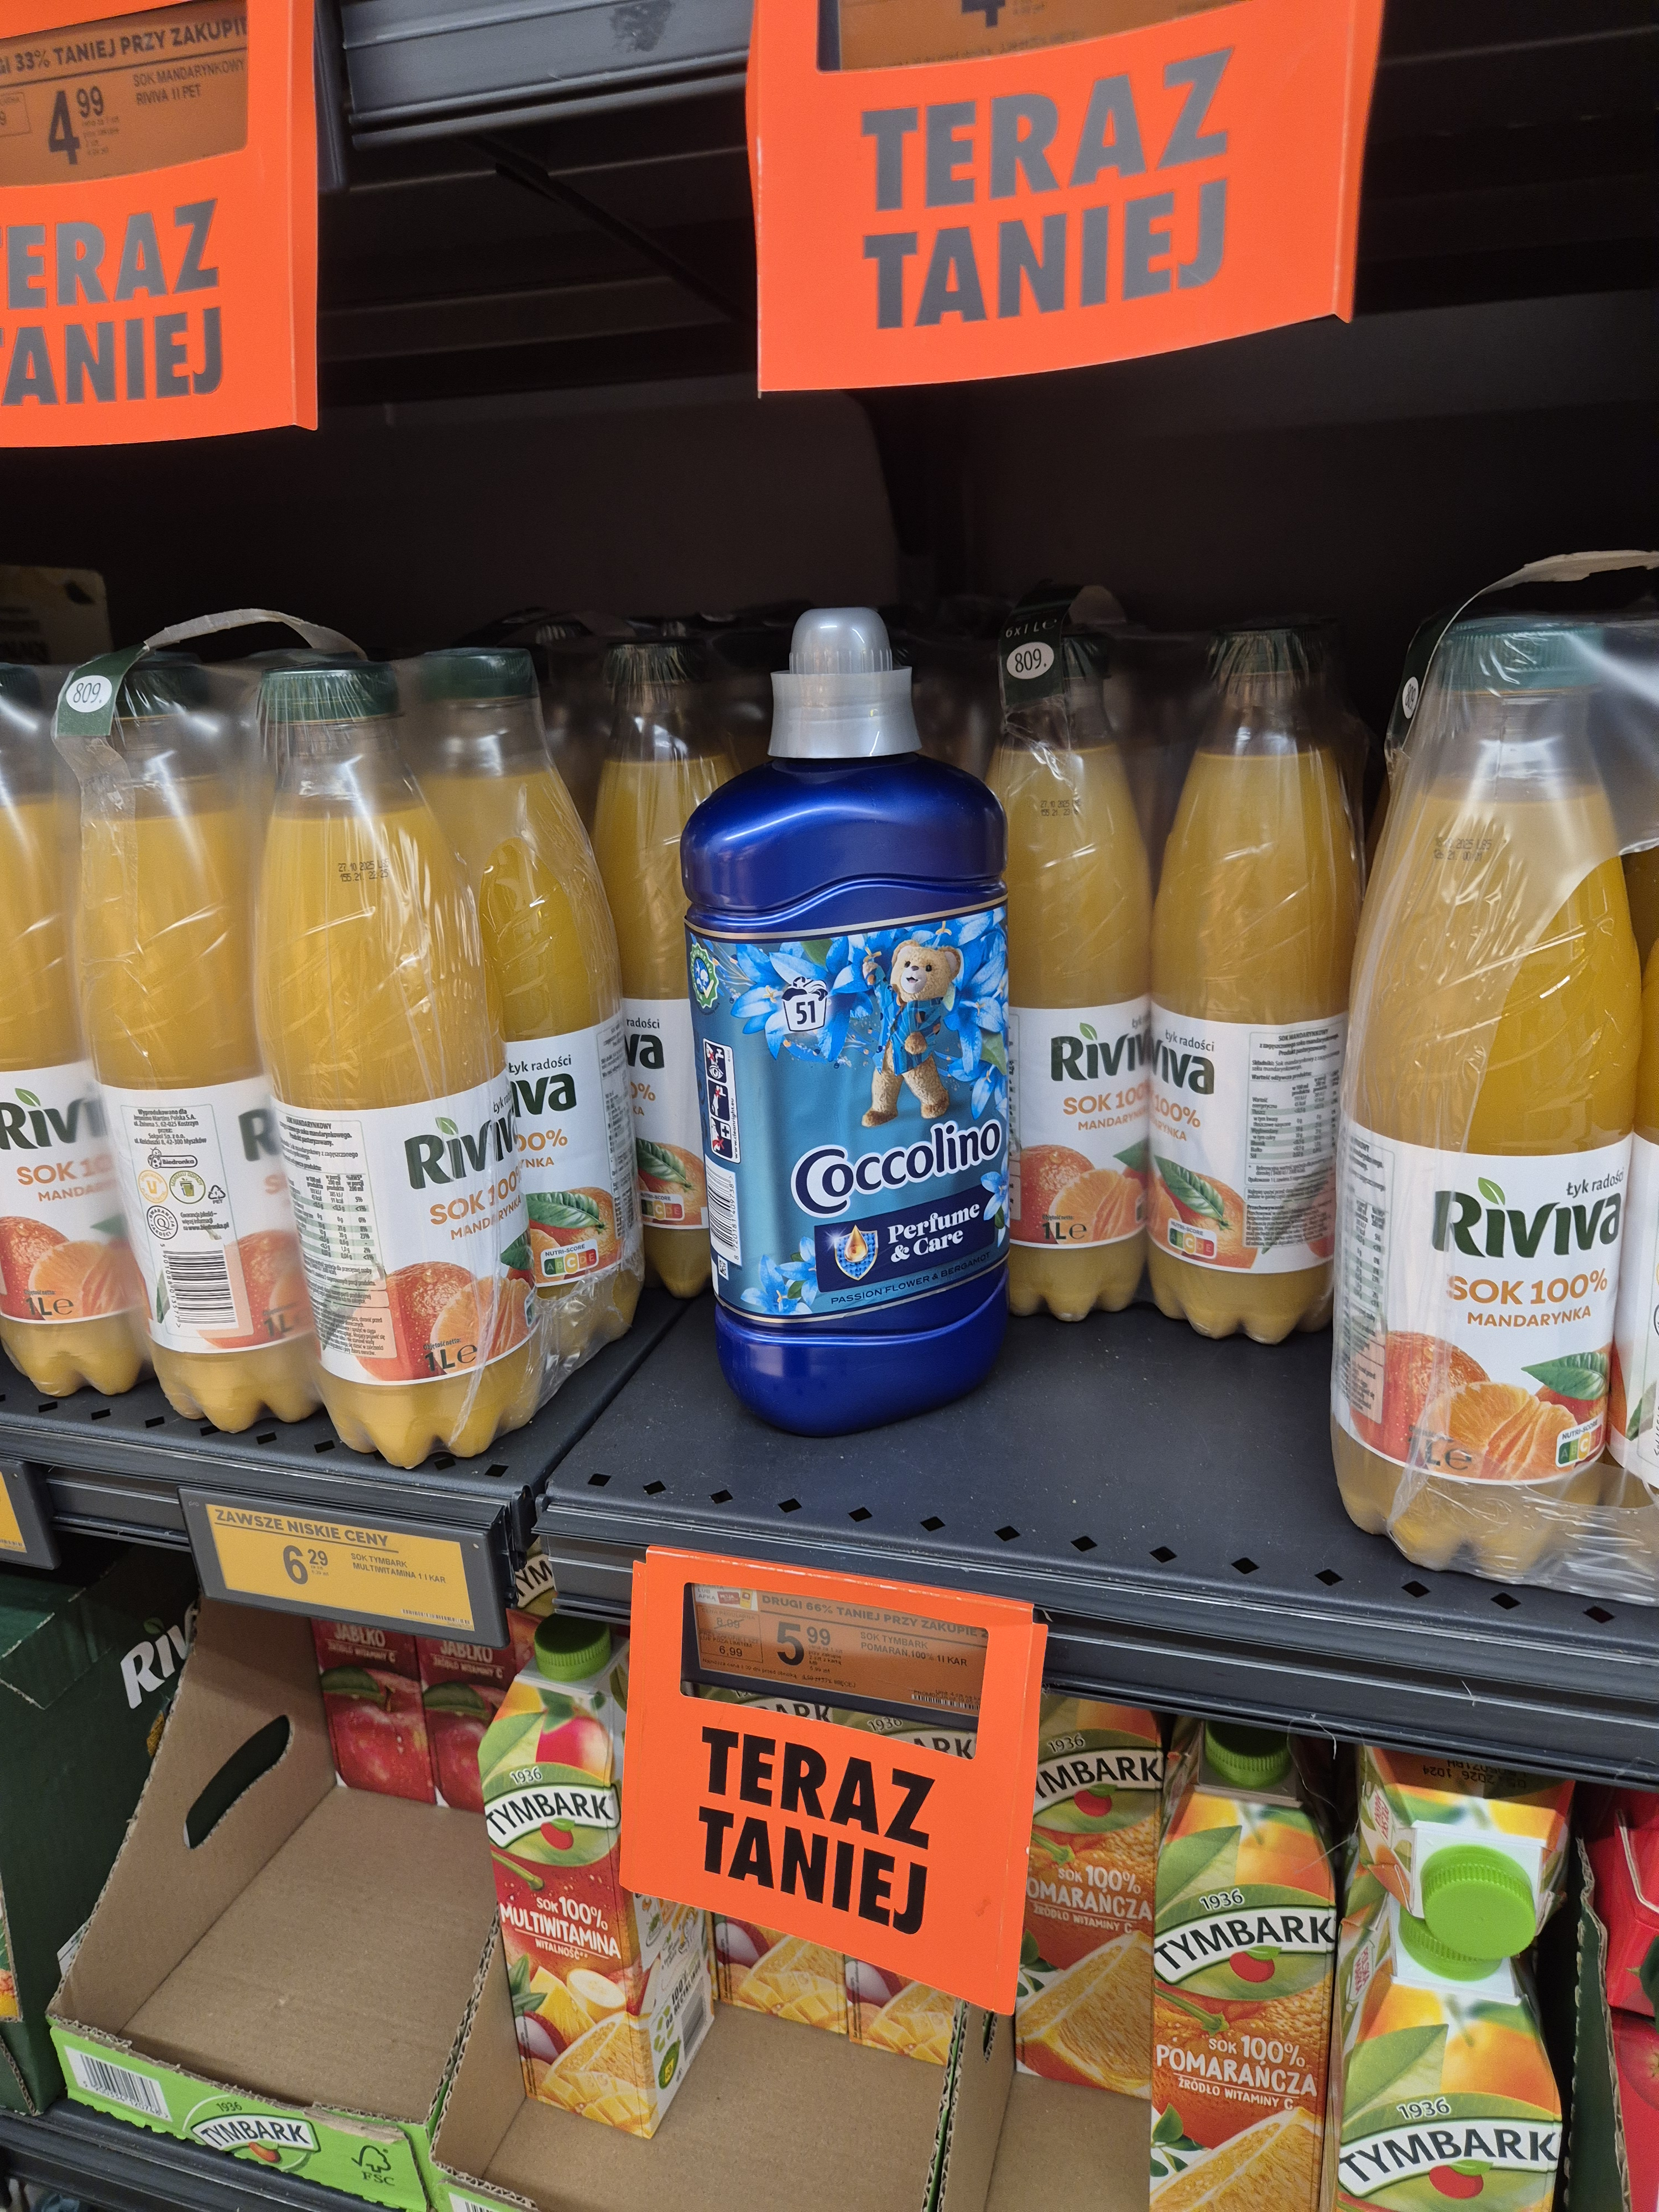cocolino: (688, 589, 1051, 1428)
